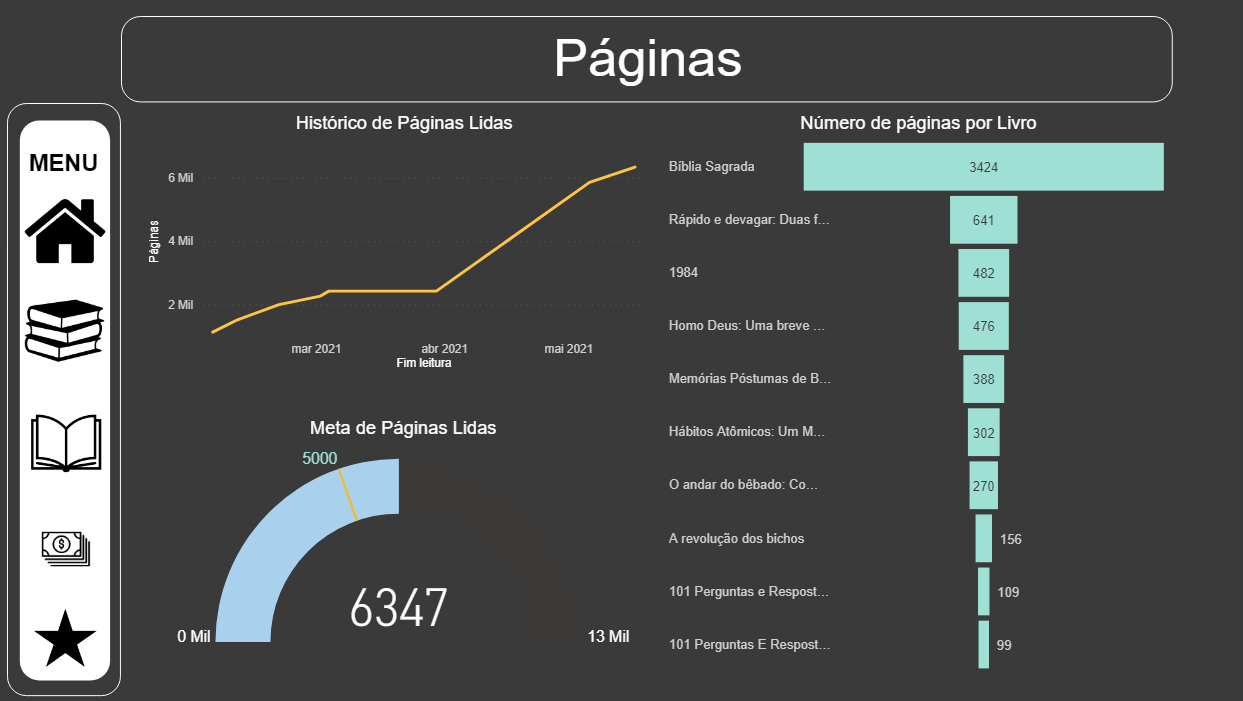

This screenshot's page, from the dashboard's own definition file:
{"tool":"powerbi","page":{"name":"Páginas","canvas":[1280,720],"ordinal":2},"visuals":[{"type":"basicShape","title":"Menu","box":[11.4,108.3,116.3,604.1],"z":0},{"type":"textbox","box":[21.7,149.3,94.6,66.1],"z":1000},{"type":"image","box":[22.8,410.3,96.9,87.8],"z":2000},{"type":"image","box":[5.7,610.9,127.7,83.2],"z":3000},{"type":"image","box":[19.4,294.1,100.3,91.2],"z":4000},{"type":"image","box":[16,192.6,107.1,92.3],"z":5000},{"type":"gauge","title":"Meta de Páginas Lidas","fields":{"Y":["Sum(Books Info.Número de páginas)"]},"box":[149.8,428,530.1,239.3],"z":6000},{"type":"image","box":[6.8,508.4,126.5,108.3],"z":7000},{"type":"textbox","box":[127.8,19.4,1071.2,87.8],"z":8000},{"type":"lineChart","title":"Histórico de Páginas Lidas","fields":{"Y":["Books Info.Total acumulado de Número de páginas"],"Category":["Books Info.Fim leitura"]},"box":[150.5,117.4,530,267.9],"z":9000},{"type":"funnel","fields":{"Category":["Books Info.Livro"],"Y":["Sum(Books Info.Número de páginas)"]},"box":[680.5,117.4,518.6,576.7],"z":10000}]}

Visuals, with their boxes in screenshot pixels (x1, y1, x2, y2), scaled from the page's 1280x720 canvas onto the 1243x701 screenshot:
"Menu" basicShape: x1=11 y1=105 x2=124 y2=694
textbox: x1=21 y1=145 x2=113 y2=210
image: x1=22 y1=399 x2=116 y2=485
image: x1=6 y1=595 x2=130 y2=676
image: x1=19 y1=286 x2=116 y2=375
image: x1=16 y1=188 x2=120 y2=277
"Meta de Páginas Lidas" gauge: x1=145 y1=417 x2=660 y2=650
image: x1=7 y1=495 x2=129 y2=600
textbox: x1=124 y1=19 x2=1164 y2=104
"Histórico de Páginas Lidas" lineChart: x1=146 y1=114 x2=661 y2=375
funnel - Books Info.Livro x Sum(Books Info.Número de páginas): x1=661 y1=114 x2=1164 y2=676
